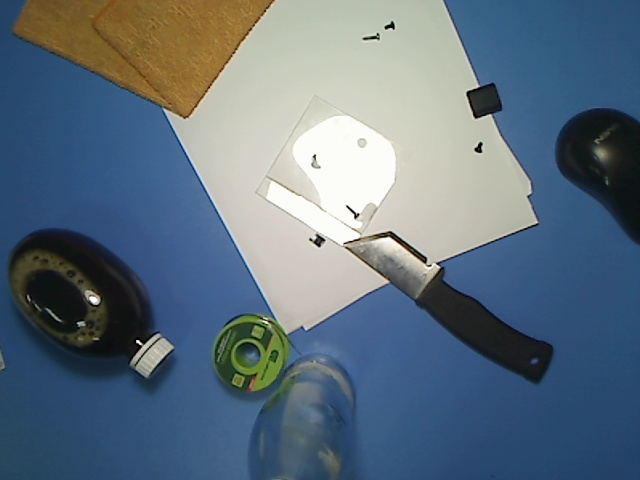plast_bottle: (6, 221, 178, 389)
